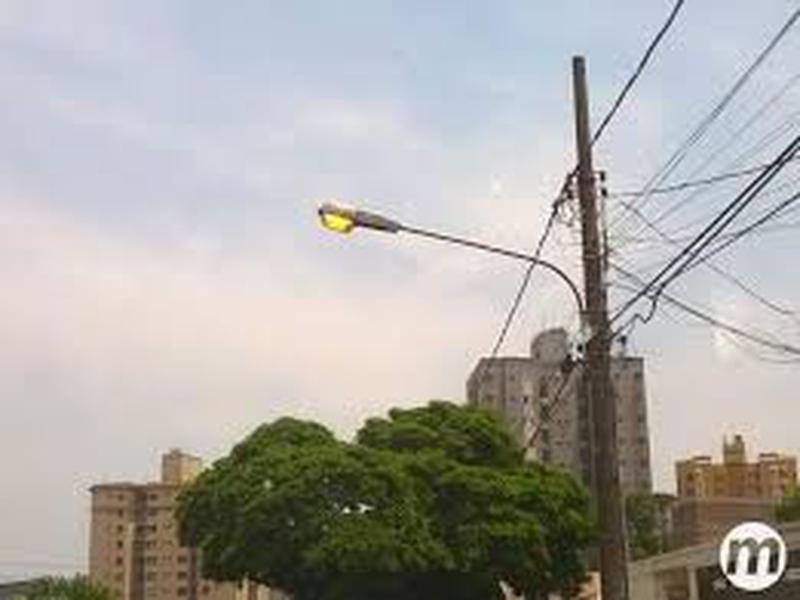IP: (309, 193, 528, 263)
